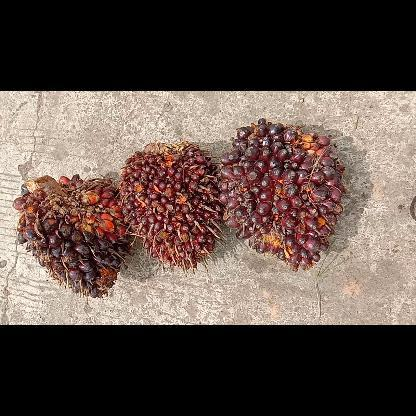Kurang masak: (221, 118, 347, 272), (119, 141, 221, 266)
TBS masak: (11, 174, 117, 298)
